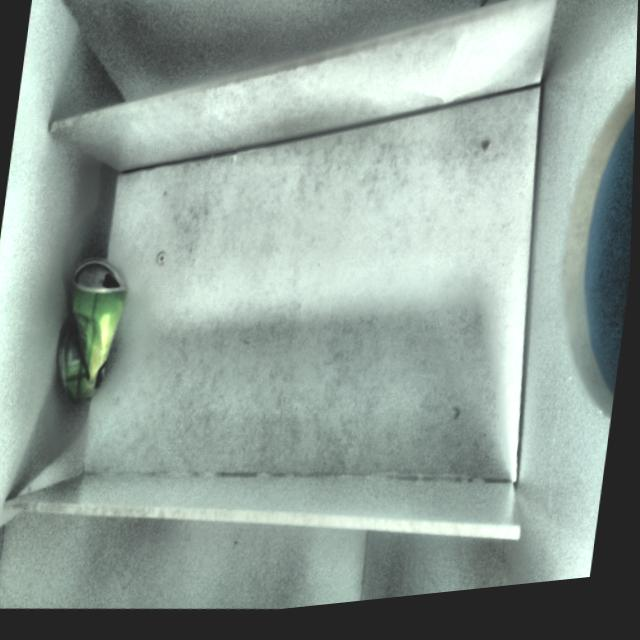Cans: (41, 239, 146, 420)
